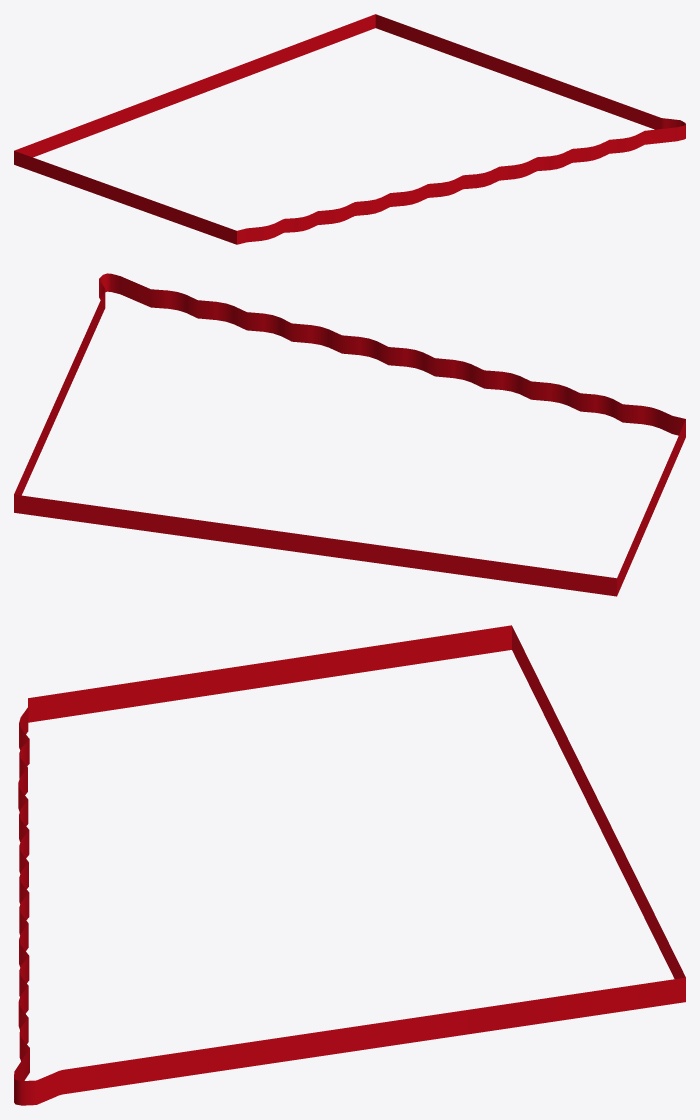
Rendered from Vent Sails.fbx.
The picture shows the model from 3 angles, top to bottom: view 1: azimuth 30°, elevation 25°; view 2: azimuth 150°, elevation 25°; view 3: azimuth 270°, elevation 25°; orthographic projection. The views are drawn at different scales.
Parts seen in each view (by area): view 1: Plane.007; view 2: Plane.007; view 3: Plane.007.
Part boxes in pixels (left/top/right/bottom): Plane.007: left=14, top=14, right=685, bottom=244; Plane.007: left=14, top=273, right=685, bottom=596; Plane.007: left=14, top=625, right=685, bottom=1105.
Bounding box in the file's own units: 3770 × 94.74 × 2349.
